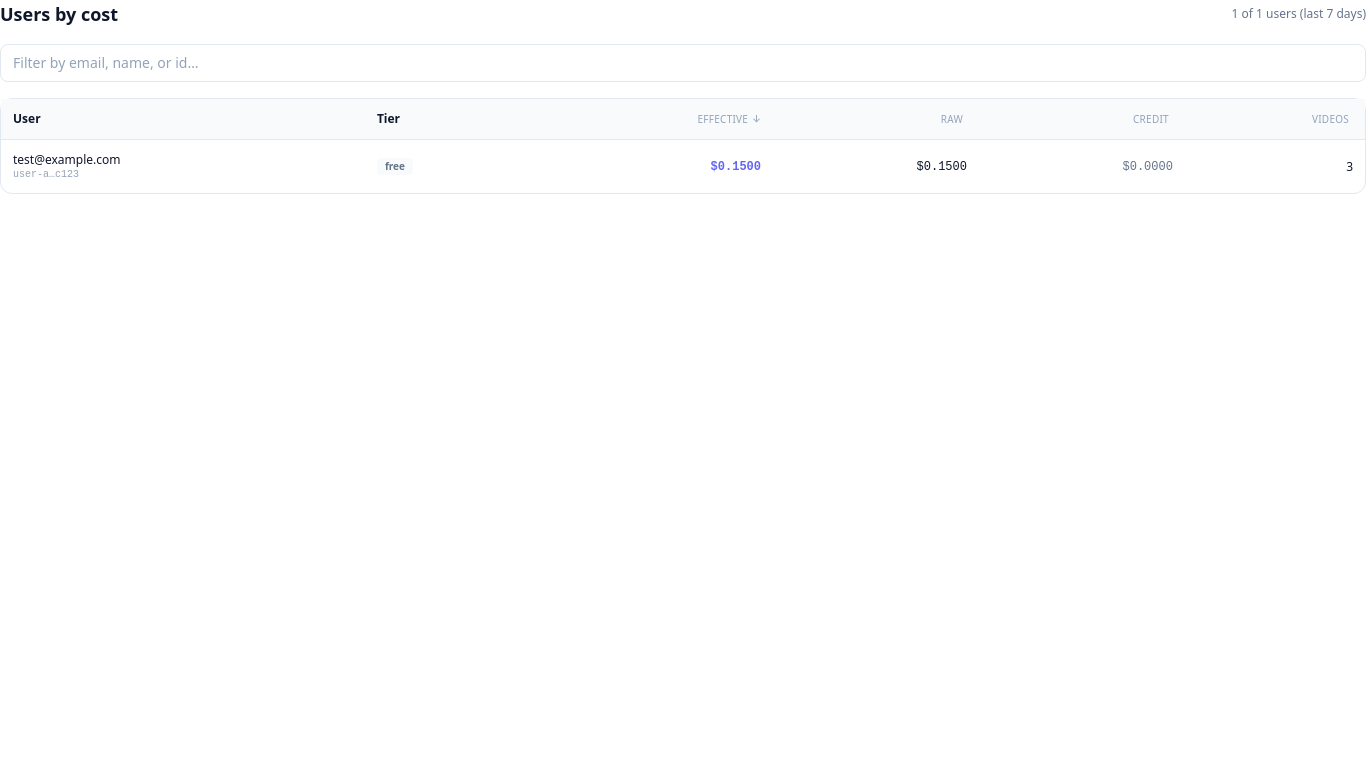
Test: User-360 drawer tabs › should switch to Videos tab and show video title
The image size is (1366, 768).
Click the row "test@example.com user-a…c123 free $0.1500 $0.1500 $0.0000 3" at (67,160), box [1, 140, 1365, 193]
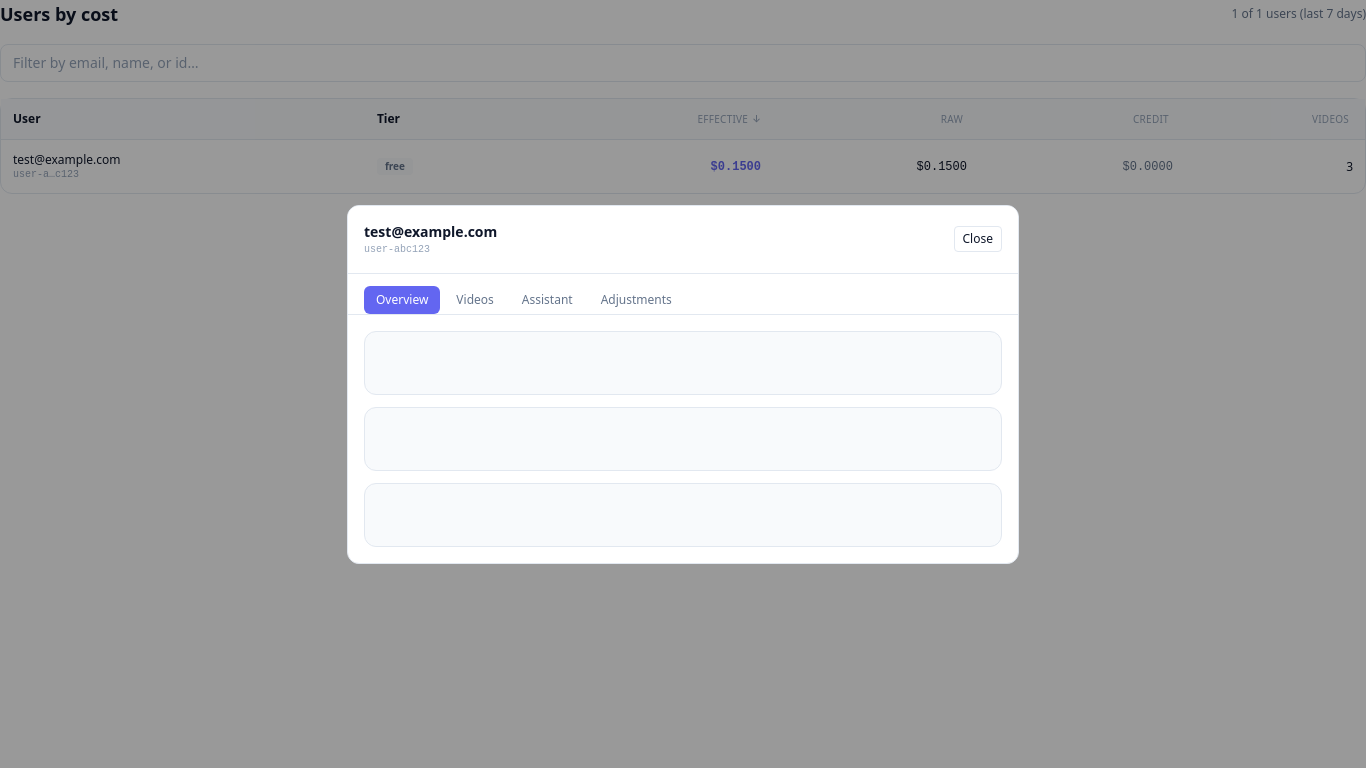
Expected: the tab "Videos" is shown
Note: Click Videos tab
Click the tab "Videos" at (475,300), box [444, 286, 506, 314]
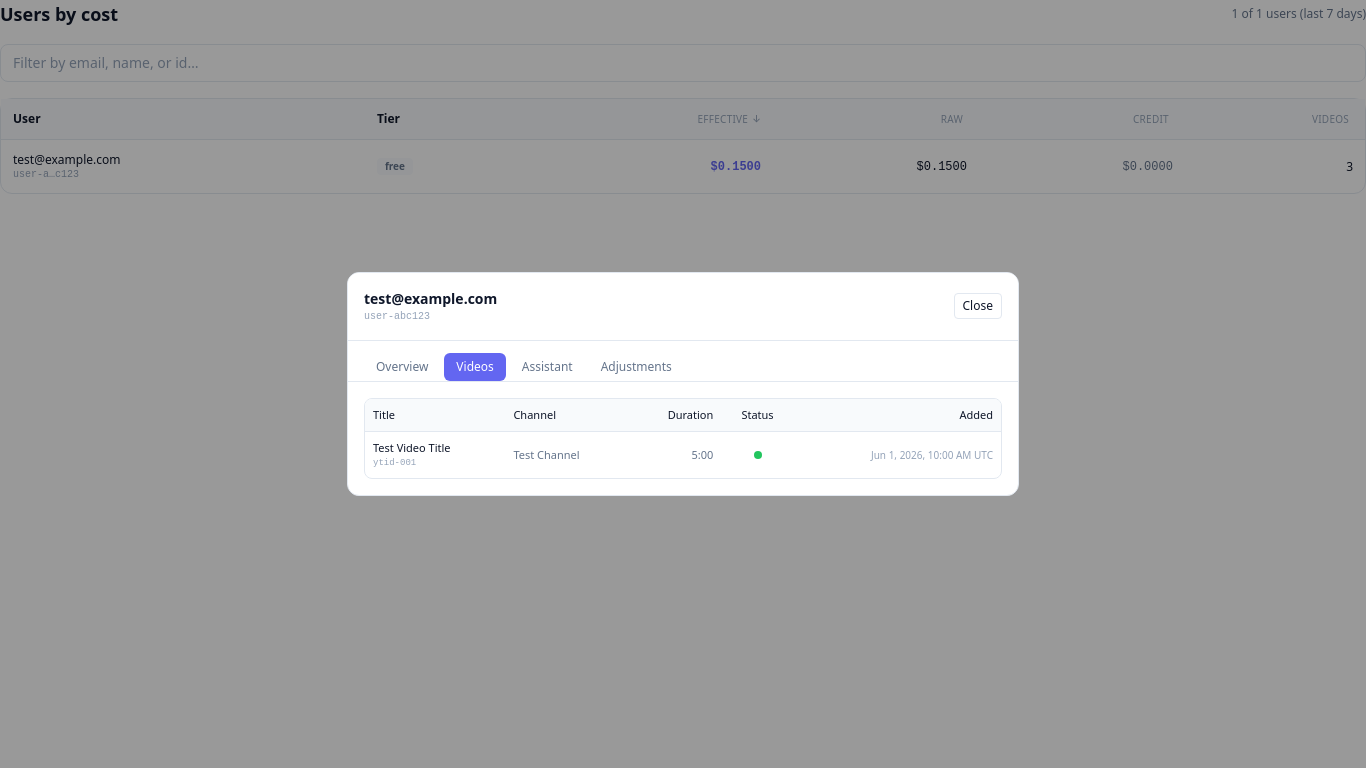
Expected: the text "Test Video Title" is shown, [373, 440, 450, 455]
